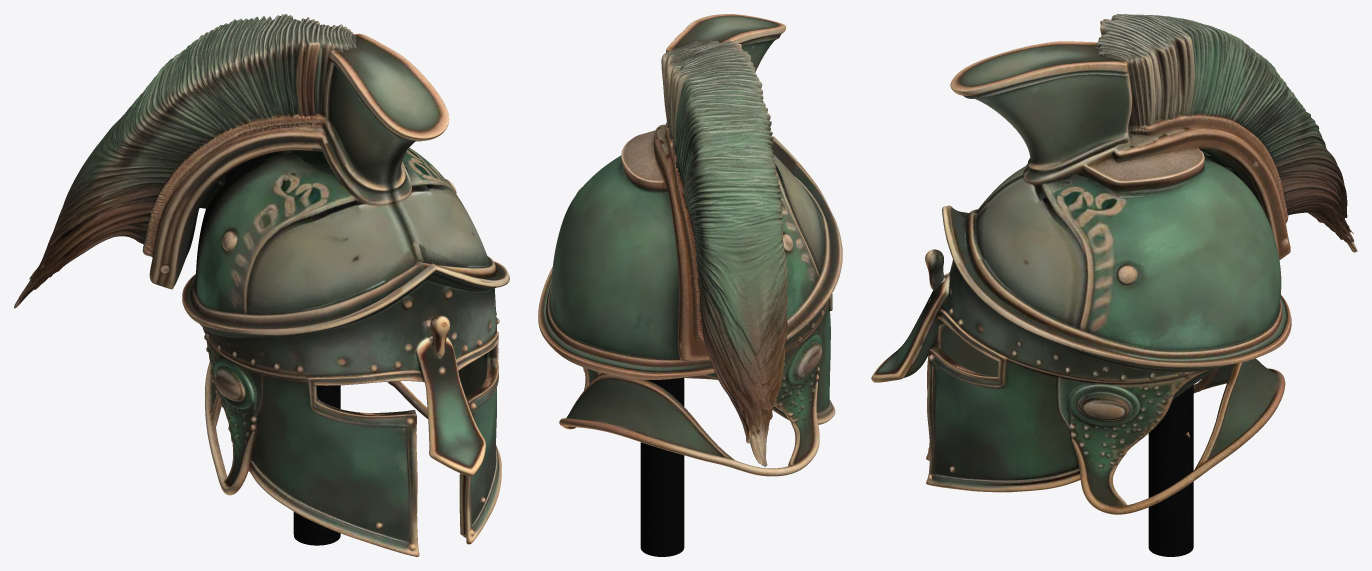
Rendered from galea_murmillo.glb.
The picture shows the model from 3 angles, left to right: view 1: azimuth 30°, elevation 25°; view 2: azimuth 150°, elevation 25°; view 3: azimuth 270°, elevation 25°; orthographic projection. The views are drawn at different scales.
Size of the model in its own units: 1.29 by 1.9 by 1.65.
1 material, 1 textured.
